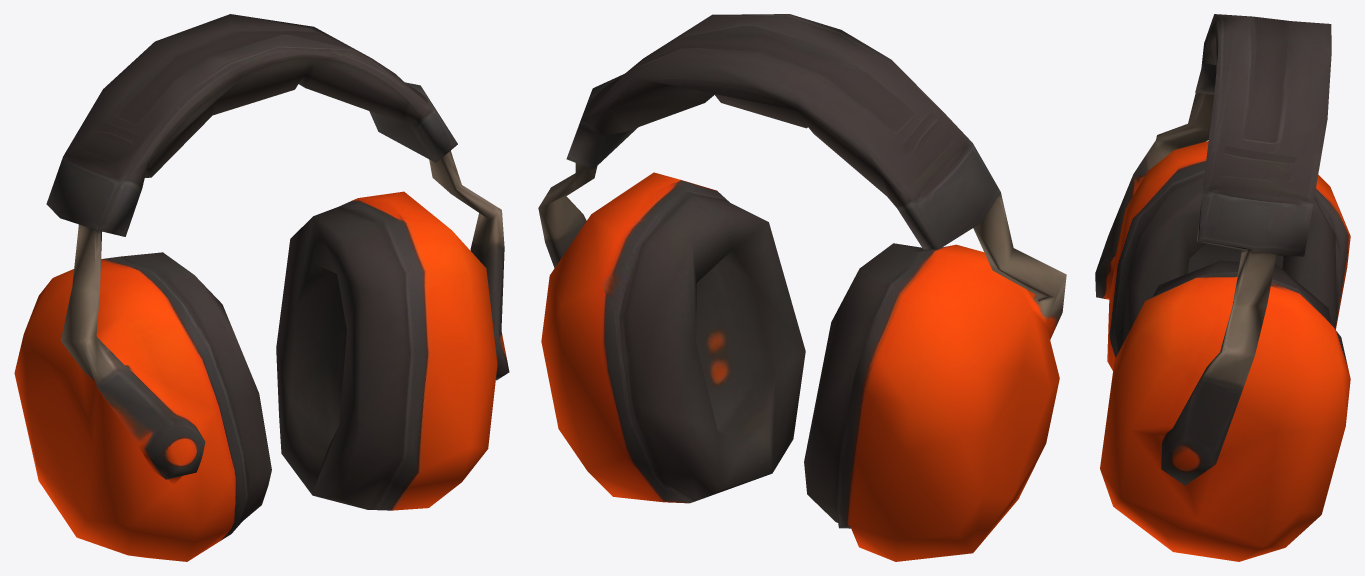
The model's file is kulaklik.glb.
3 views of the same model, side by side, from view 1: azimuth 30°, elevation 25°; view 2: azimuth 150°, elevation 25°; view 3: azimuth 270°, elevation 25° (orthographic). The views are drawn at different scales.
Parts seen in each view (by area): view 1: tripo_node_7db429b0-11bb-4835-bfcf-8e445d7a3c0b; view 2: tripo_node_7db429b0-11bb-4835-bfcf-8e445d7a3c0b; view 3: tripo_node_7db429b0-11bb-4835-bfcf-8e445d7a3c0b.
Part boxes in pixels (x1,y1,x2,y2): tripo_node_7db429b0-11bb-4835-bfcf-8e445d7a3c0b: (14, 14, 509, 561); tripo_node_7db429b0-11bb-4835-bfcf-8e445d7a3c0b: (538, 14, 1066, 561); tripo_node_7db429b0-11bb-4835-bfcf-8e445d7a3c0b: (1095, 14, 1350, 561).
Size of the model in its own units: 0.979 by 0.9744 by 0.4883.
1 material, 1 textured.
